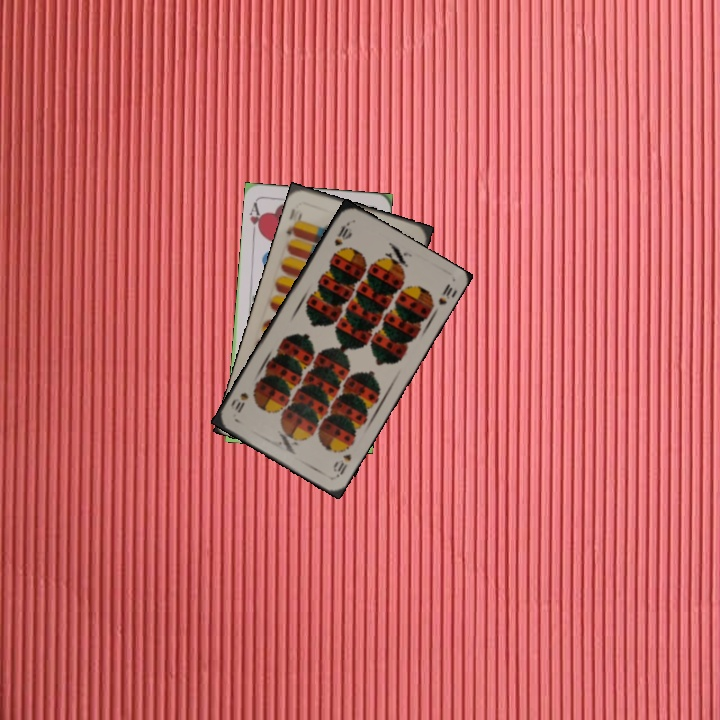E10: (282, 209, 305, 239)
HA: (246, 198, 265, 239)
S10: (329, 450, 354, 479), (330, 218, 353, 249)
